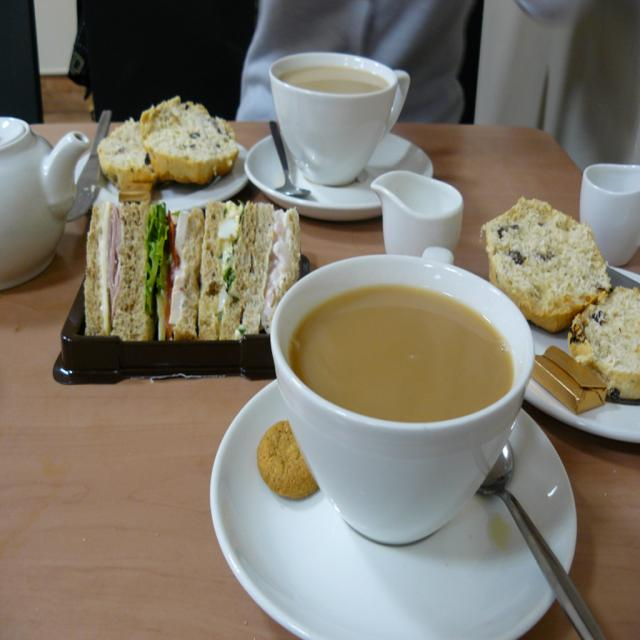Tea: (290, 281, 516, 425), (278, 63, 387, 92)
